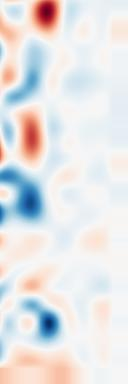filament: (15, 104, 49, 173)
